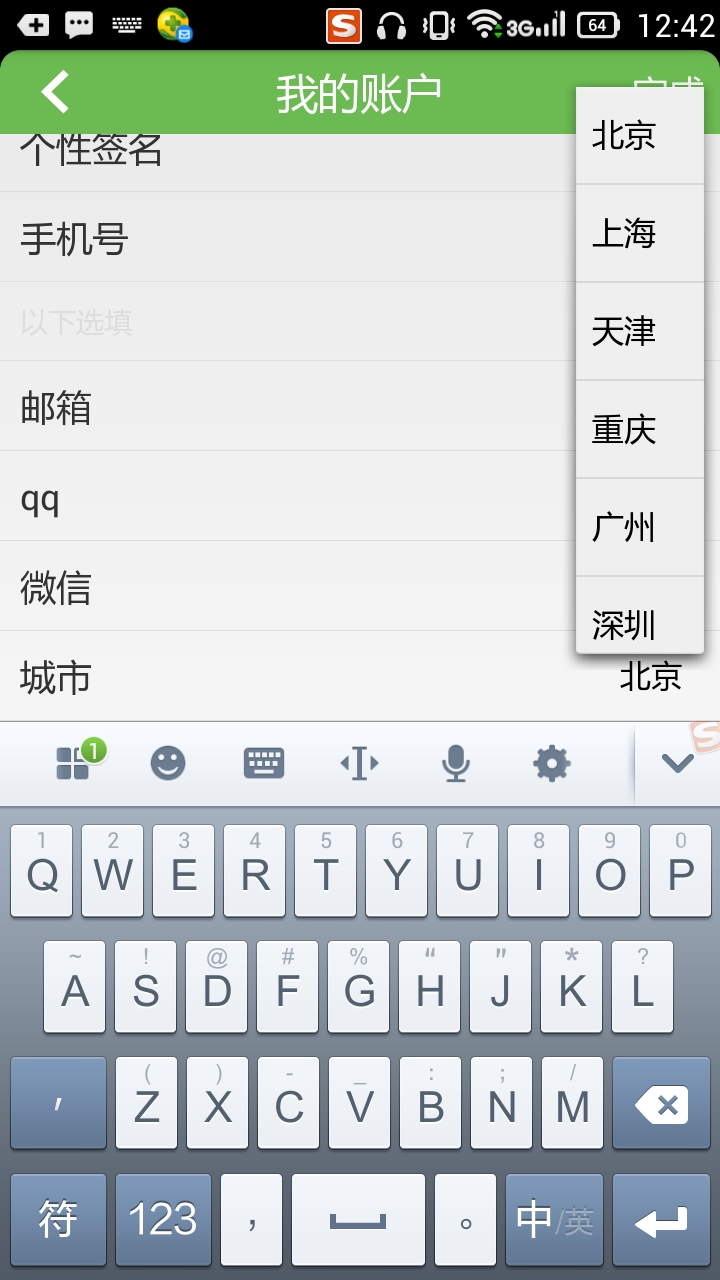checkboxs: (564, 79, 709, 663)
textview: (9, 365, 533, 711)
